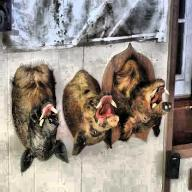boar: (18, 68, 65, 175)
